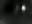person: (15, 4, 21, 15), (22, 4, 27, 15)
